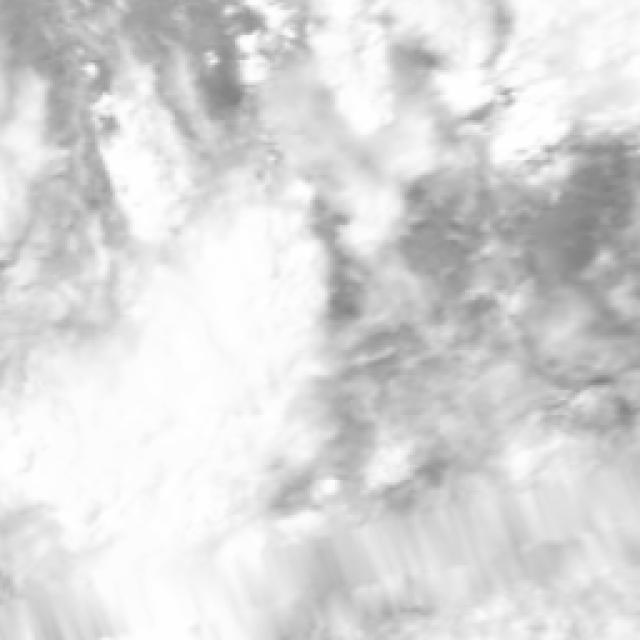CB: (135, 293, 248, 518)
